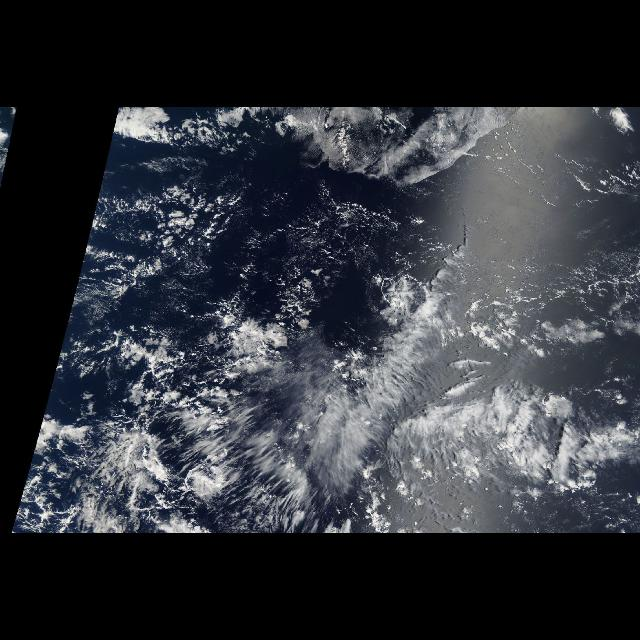Fish: (278, 204, 490, 512)
Gravel: (8, 335, 190, 531)
